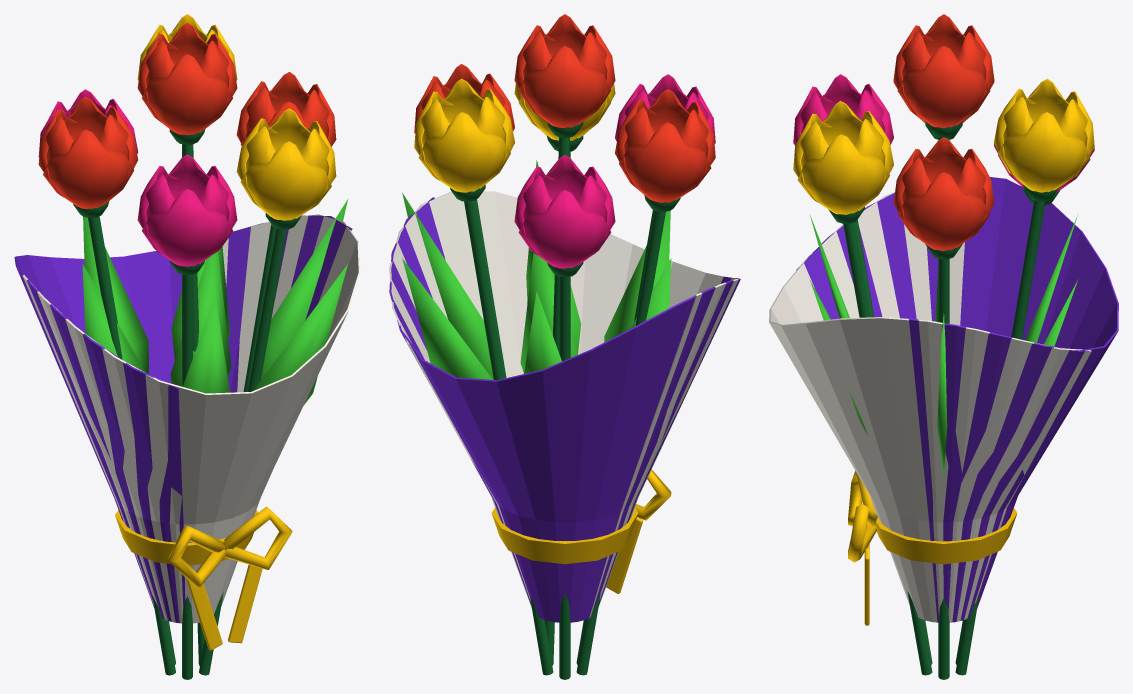
File: 23_Flower_Bouquet.glb
3 views of the same model, side by side, from view 1: azimuth 30°, elevation 25°; view 2: azimuth 150°, elevation 25°; view 3: azimuth 270°, elevation 25° (orthographic).
Parts seen in each view (by area): view 1: 23_Flower_Bouquet_EXPORT; view 2: 23_Flower_Bouquet_EXPORT; view 3: 23_Flower_Bouquet_EXPORT.
Boxes of the visible parts, left/top/right/bottom form: 23_Flower_Bouquet_EXPORT: left=14, top=14, right=360, bottom=679; 23_Flower_Bouquet_EXPORT: left=389, top=14, right=740, bottom=679; 23_Flower_Bouquet_EXPORT: left=769, top=14, right=1118, bottom=679.
Bounding box in the file's own units: 0.4459 × 0.8693 × 0.4286.
